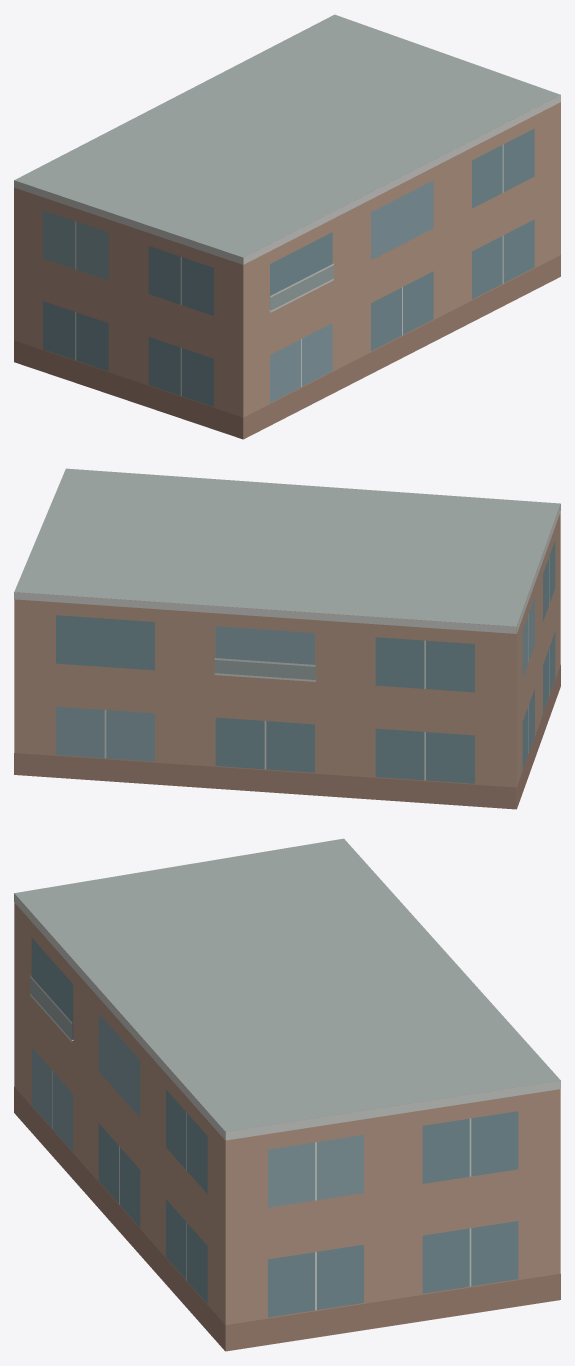
Rendered from survey-upis-32842309.glb.
3 renders of one model, top to bottom at view 1: azimuth 30°, elevation 25°; view 2: azimuth 150°, elevation 25°; view 3: azimuth 270°, elevation 25°, orthographic. The views are drawn at different scales.
Parts seen in each view (by area): view 1: survey-upis-32842309.tmp; view 2: survey-upis-32842309.tmp; view 3: survey-upis-32842309.tmp.
Part boxes in pixels (<box>): survey-upis-32842309.tmp: <box>14,14,560,439</box>; survey-upis-32842309.tmp: <box>14,468,560,809</box>; survey-upis-32842309.tmp: <box>14,838,560,1351</box>.
Bounding box in the file's own units: 17.48 × 6.1 × 13.77.
